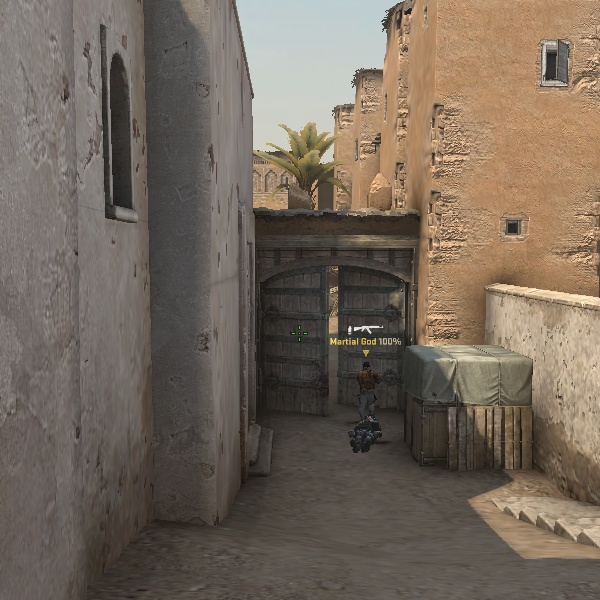t_body: (353, 359, 384, 421)
t_head: (362, 361, 371, 371)
